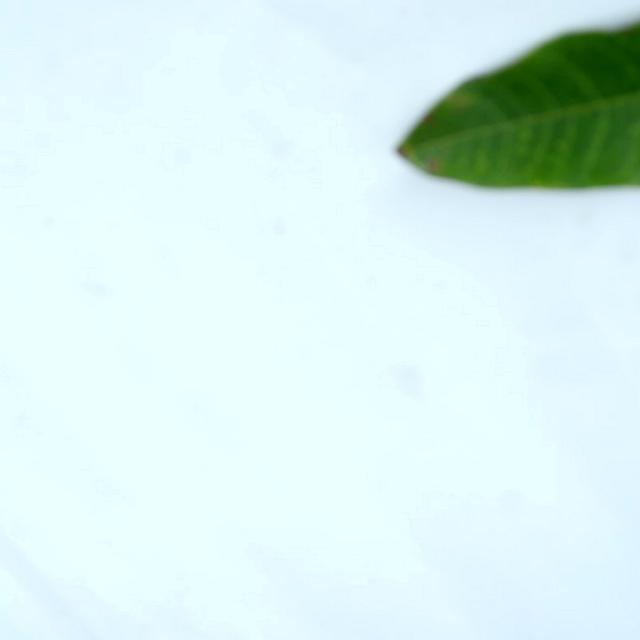Mango: (399, 22, 639, 188)
